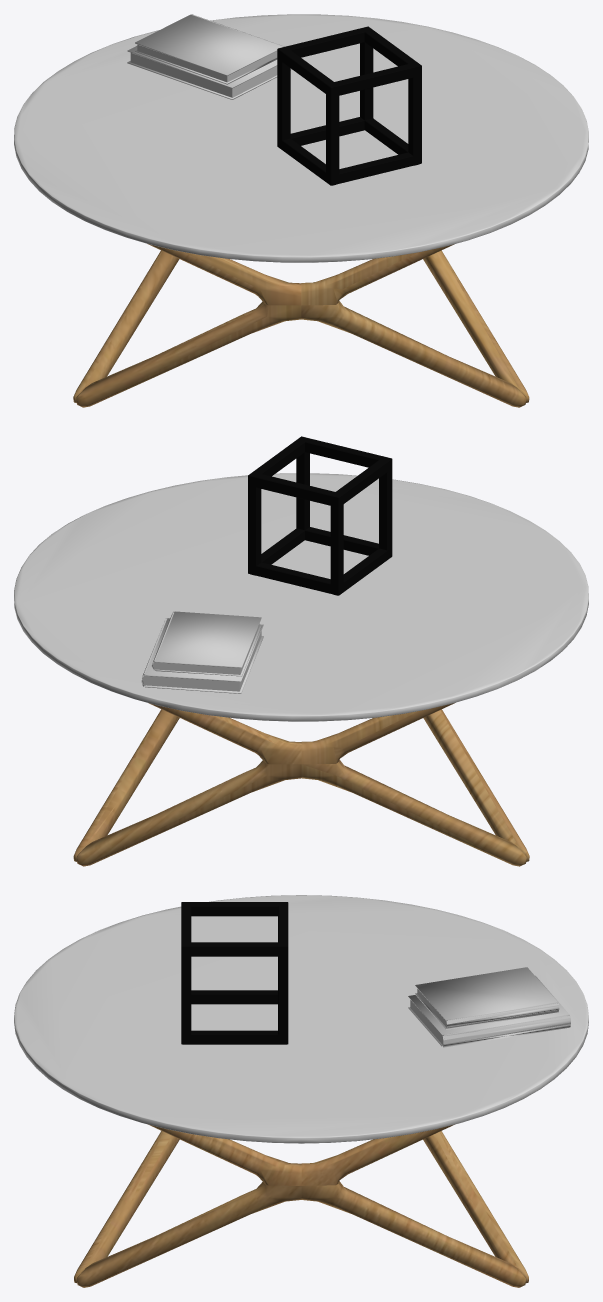
File: table.FBX
3 views of the same model, one above another, from view 1: azimuth 30°, elevation 25°; view 2: azimuth 150°, elevation 25°; view 3: azimuth 270°, elevation 25° (orthographic).
Visible parts, largest first — view 1: glass, table leg, xiadele_小木架, xiadele_Object067, xiadele_Object068; view 2: glass, table leg, xiadele_小木架, xiadele_Object067, xiadele_Object068; view 3: glass, table leg, xiadele_小木架, xiadele_Object067, xiadele_Object068.
Boxes of the visible parts, x1,y1,x2,y2 form: glass: (14, 14, 588, 262); table leg: (73, 244, 529, 407); xiadele_小木架: (277, 26, 421, 185); xiadele_Object067: (135, 14, 284, 84); xiadele_Object068: (127, 46, 291, 99); glass: (14, 473, 588, 721); table leg: (73, 702, 529, 866); xiadele_小木架: (248, 436, 392, 595); xiadele_Object067: (152, 611, 261, 676); xiadele_Object068: (141, 618, 263, 693); glass: (14, 895, 588, 1143); table leg: (74, 1124, 528, 1287); xiadele_小木架: (181, 902, 288, 1044); xiadele_Object067: (415, 967, 559, 1029); xiadele_Object068: (408, 975, 570, 1047).
Bounding box in the file's own units: 1.01 × 0.6117 × 1.01.
